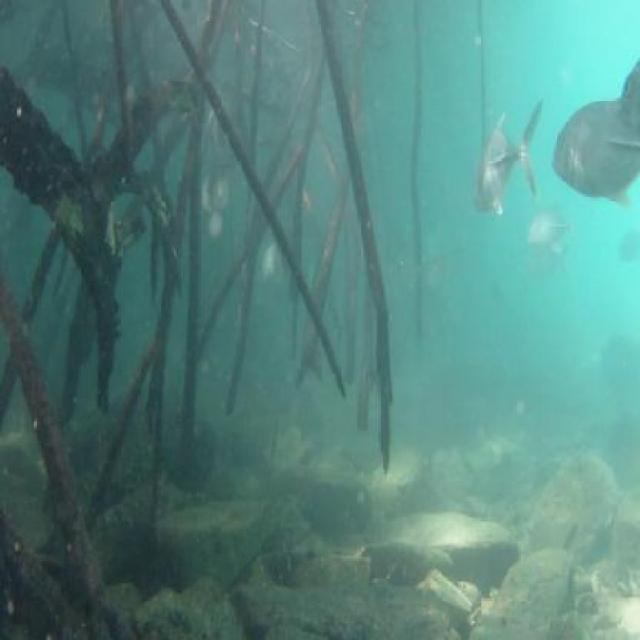Caranx_sexfasciatus_juvenile: (551, 88, 640, 208), (468, 88, 542, 224), (521, 192, 577, 252), (518, 242, 576, 286), (612, 56, 640, 142)
